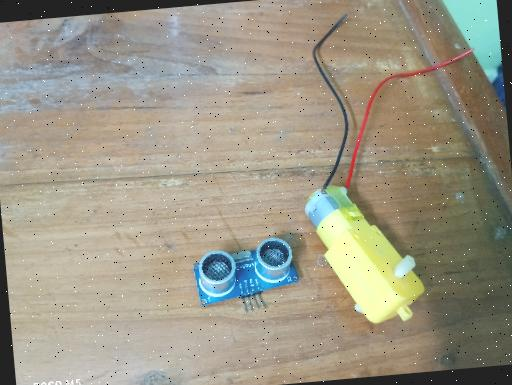Motor: (302, 177, 428, 330)
sensor: (190, 235, 301, 318)
